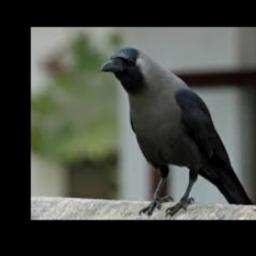Crow: (100, 47, 255, 218)
